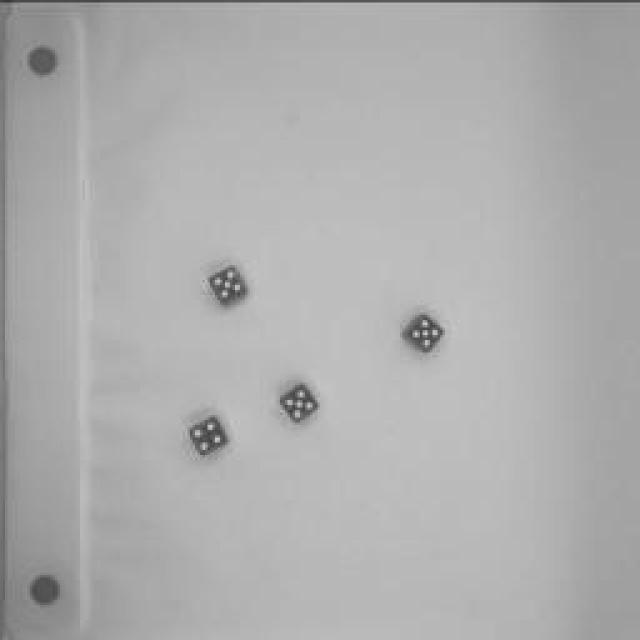dice_4: (181, 409, 231, 459)
dice_5: (204, 256, 254, 314), (395, 306, 453, 356), (274, 375, 326, 430)
